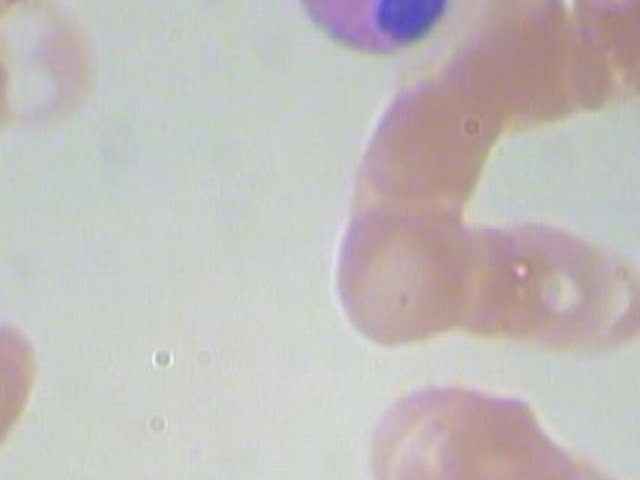RBC: (320, 204, 483, 351), (499, 213, 618, 356), (355, 91, 490, 203), (0, 0, 109, 136), (351, 370, 480, 480), (566, 0, 640, 127), (0, 307, 47, 480)
WBC: (286, 0, 468, 72)
